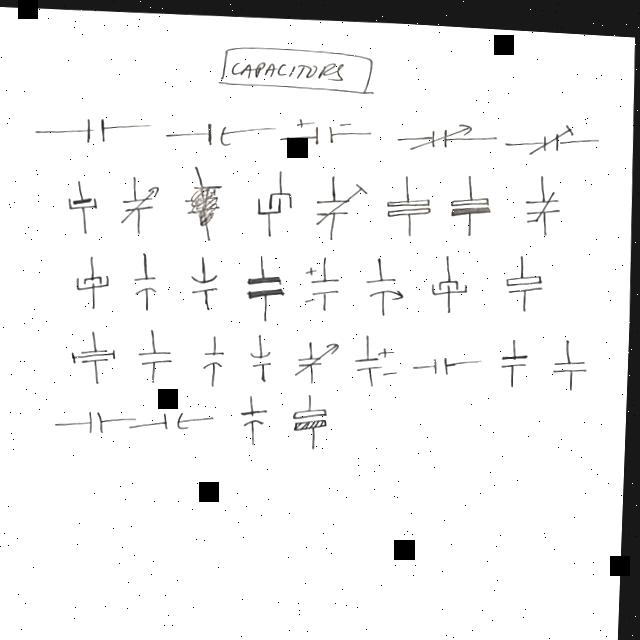capacitor: (303, 174, 371, 226), (355, 253, 417, 307), (276, 104, 358, 142), (288, 390, 344, 445), (111, 180, 172, 230), (406, 110, 484, 148), (511, 173, 568, 224), (439, 173, 499, 221), (60, 334, 125, 378), (522, 112, 590, 154), (244, 175, 304, 221), (497, 252, 551, 303), (380, 176, 436, 224), (69, 101, 126, 147), (287, 332, 345, 377), (296, 254, 348, 303), (426, 254, 475, 305), (170, 260, 227, 302), (131, 327, 181, 374), (141, 400, 207, 435), (65, 397, 127, 434), (240, 262, 293, 305), (183, 334, 238, 375), (123, 261, 176, 303), (348, 337, 401, 379), (54, 181, 107, 223), (238, 331, 283, 379), (195, 109, 253, 145), (233, 395, 285, 435), (67, 259, 119, 297), (412, 340, 470, 373), (548, 337, 590, 379), (491, 336, 535, 375)
